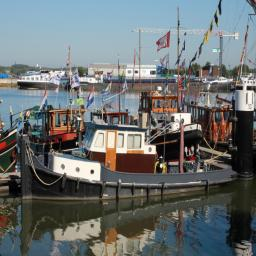tugboat: (20, 53, 240, 205)
